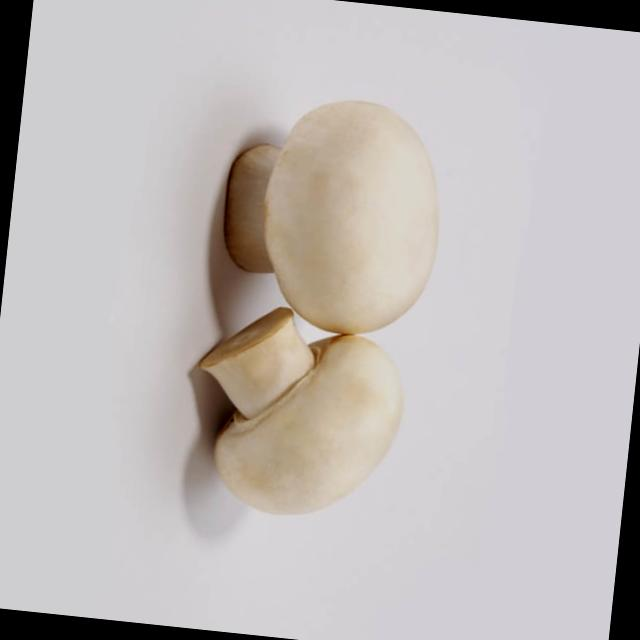Agaricus bisporus: (212, 90, 448, 339), (182, 299, 410, 522)
